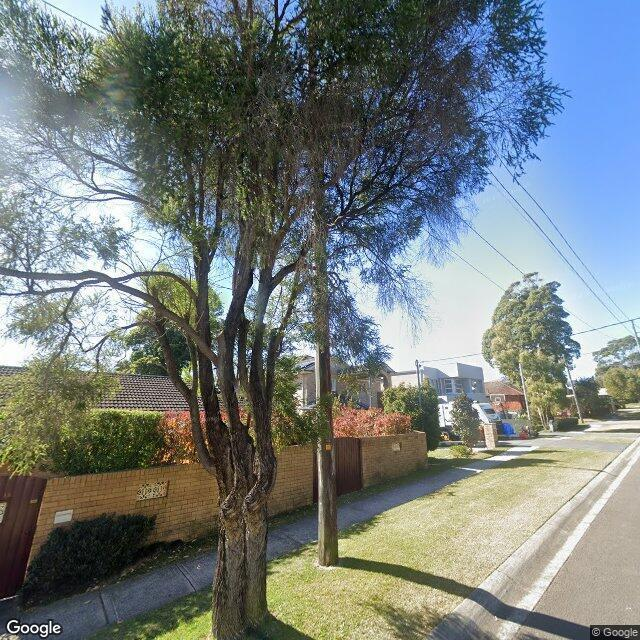steel-pole: (416, 359, 422, 414)
timber-pole: (308, 21, 340, 568), (566, 369, 584, 423), (519, 364, 530, 422)
